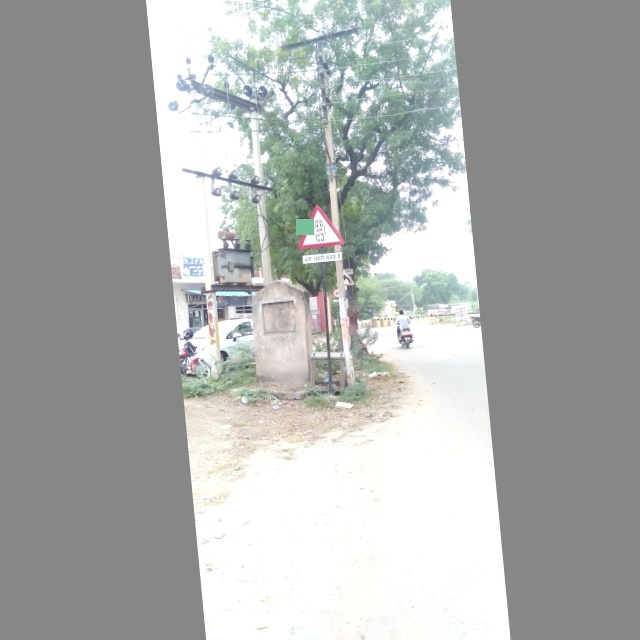Narrow_Road_Ahead: (295, 201, 343, 250)
